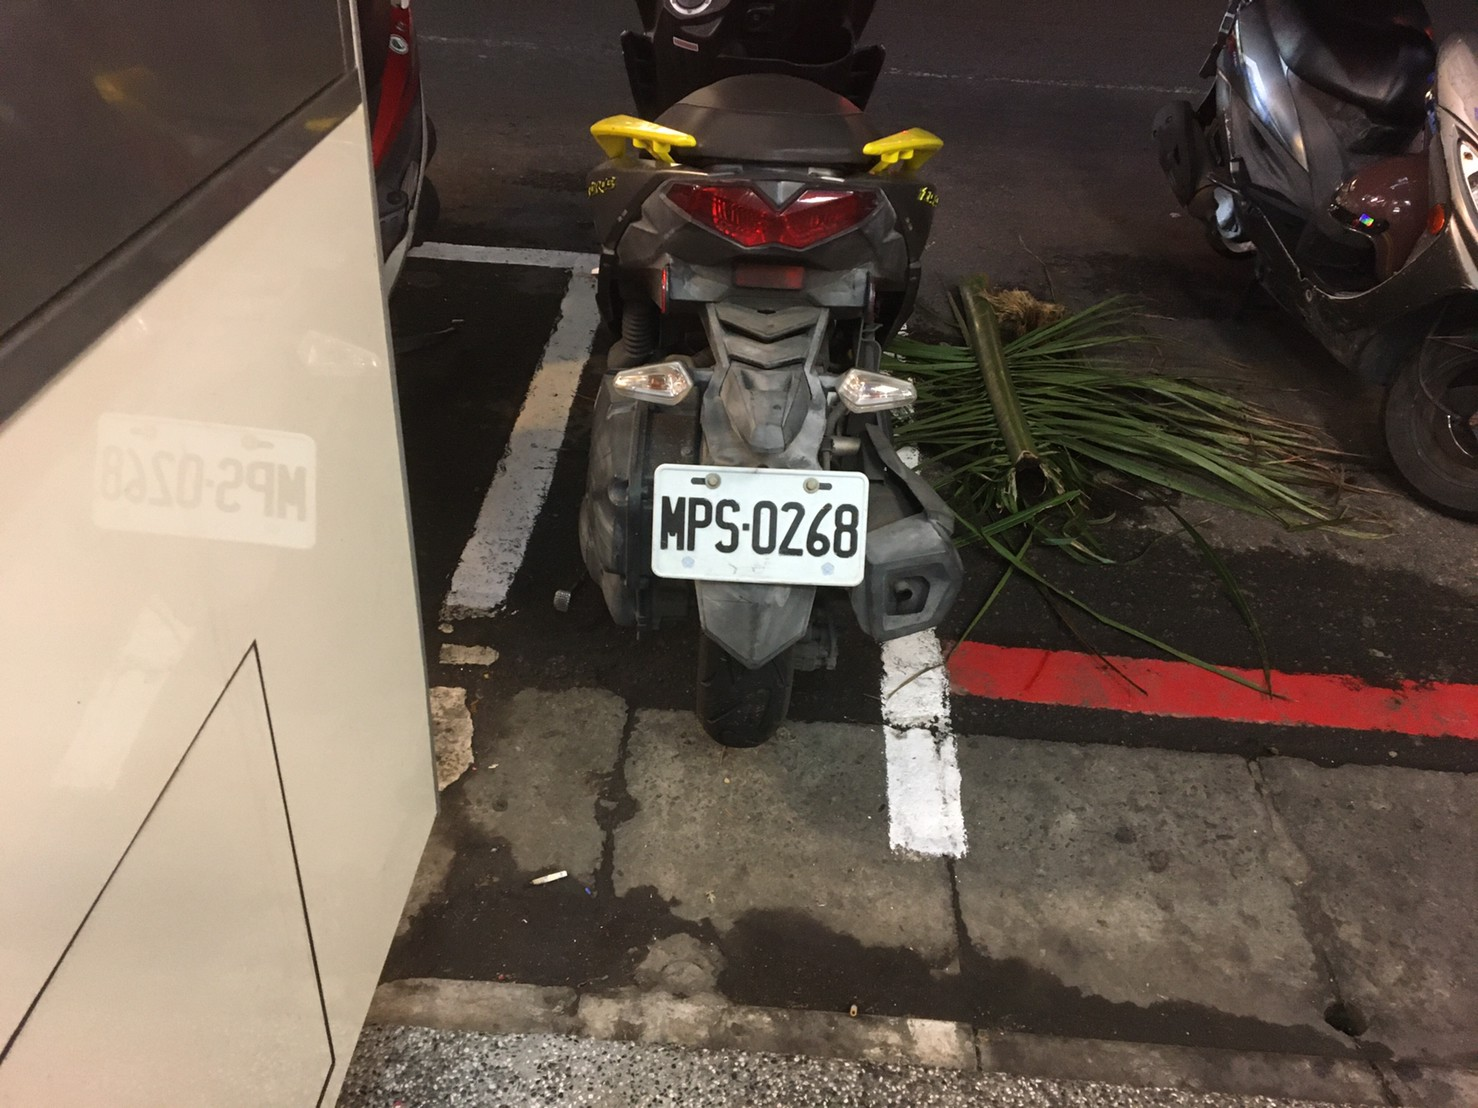LP: (652, 456, 868, 591)
